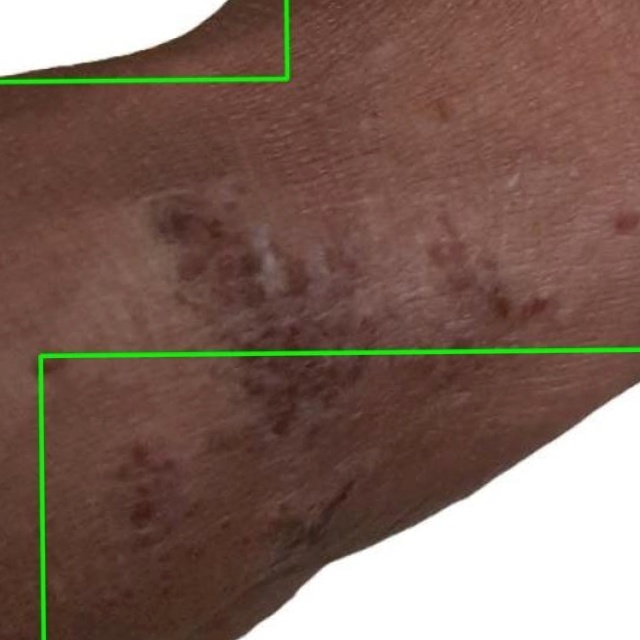Contact Dermatitis: (40, 349, 639, 639)
